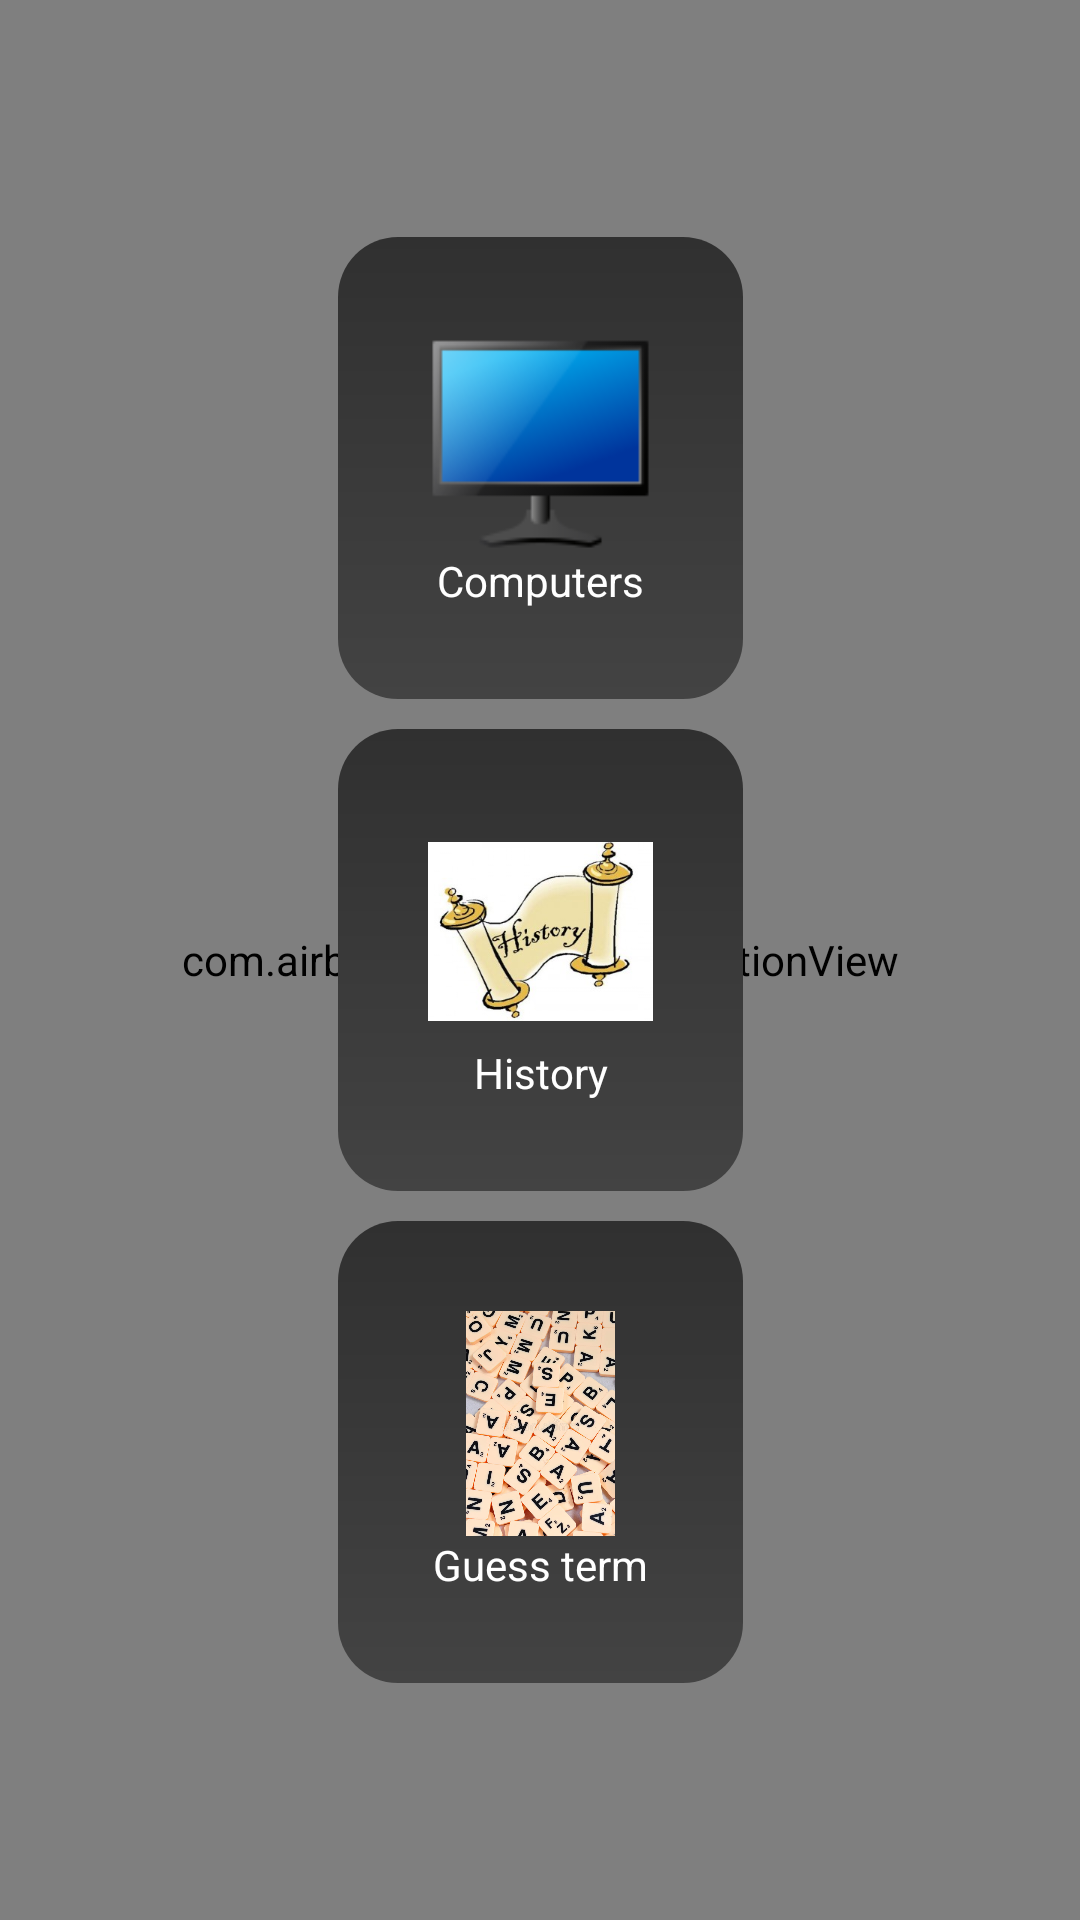

Where icons sit on this 1080 x 1920 app screen, as bbox=(x1, y1, x2, y2):
shuffled letters: bbox=(466, 1311, 615, 1536)
